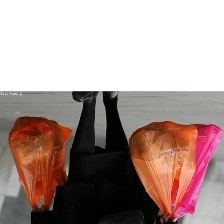plastic_bag: (5, 113, 74, 218), (125, 120, 195, 220), (162, 123, 223, 222)
